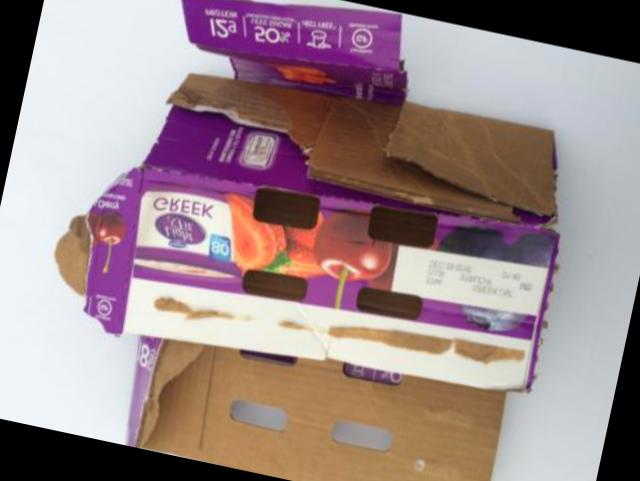cardboard paper: (54, 76, 557, 481)
